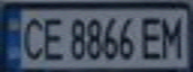6: (118, 14, 139, 61), (103, 14, 124, 61)
8: (84, 15, 106, 61), (66, 15, 87, 61)
C: (18, 12, 48, 62)
E: (136, 12, 166, 61), (36, 14, 66, 62)
M: (157, 13, 190, 60)
